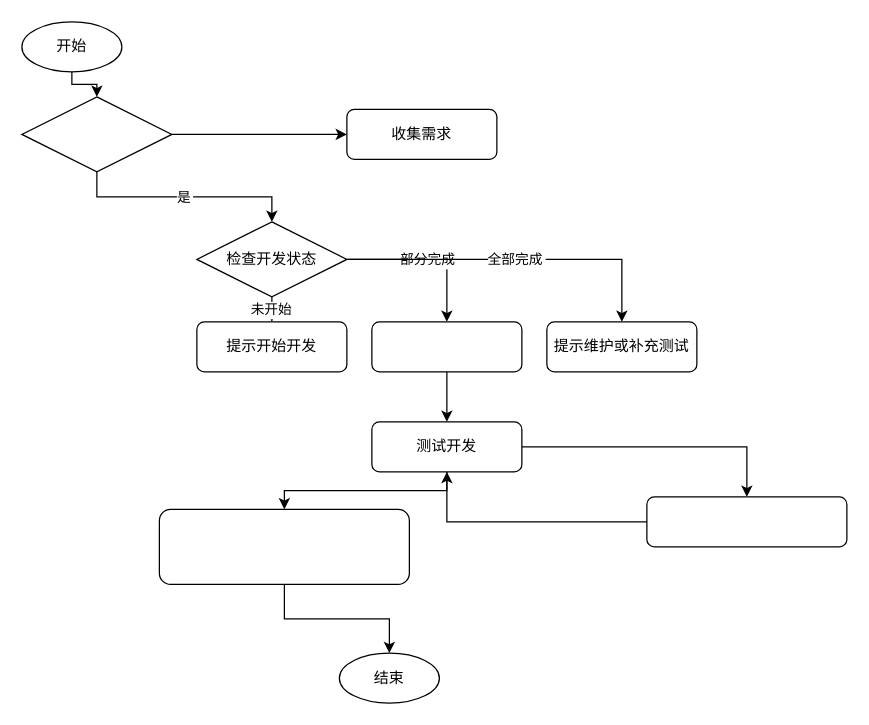
Image size: 869x725. Some labels were removed from this diagram. The box of each missing label's shape, as (x1, y1, x2, y2) in pixels:
完成测试，更新README.md，保存测试文件，提示用户: (158, 508, 409, 584)
提示继续开发/测试: (371, 321, 522, 372)
检查README.md是否存在: (21, 96, 172, 172)
测试未通过，提示补充测试: (646, 496, 847, 547)
